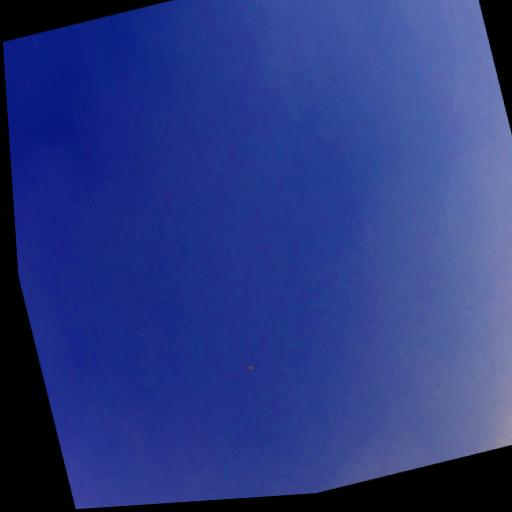drones: (244, 362, 255, 374)
